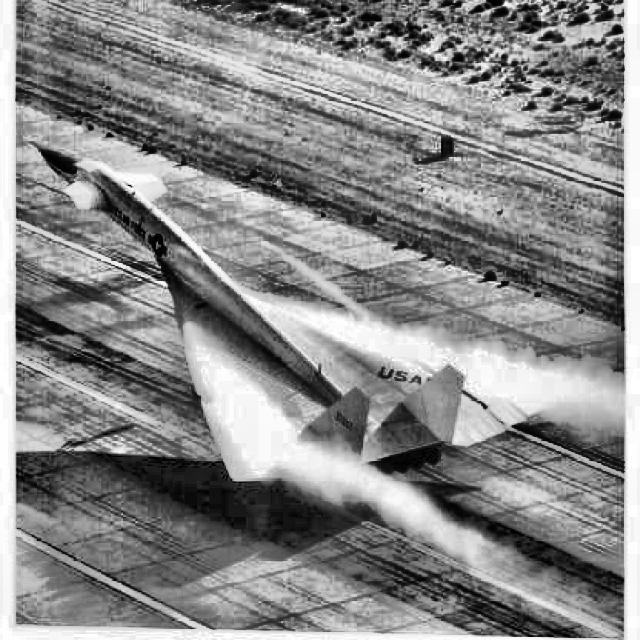XB70: (28, 139, 554, 496)
